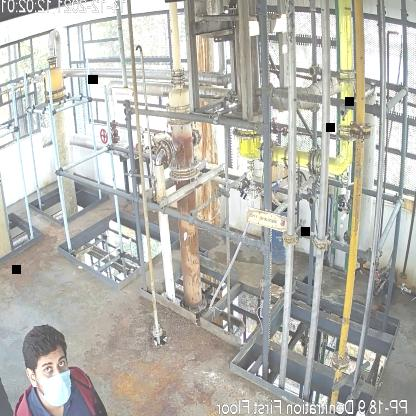no_goggles: (42, 354, 69, 375)
